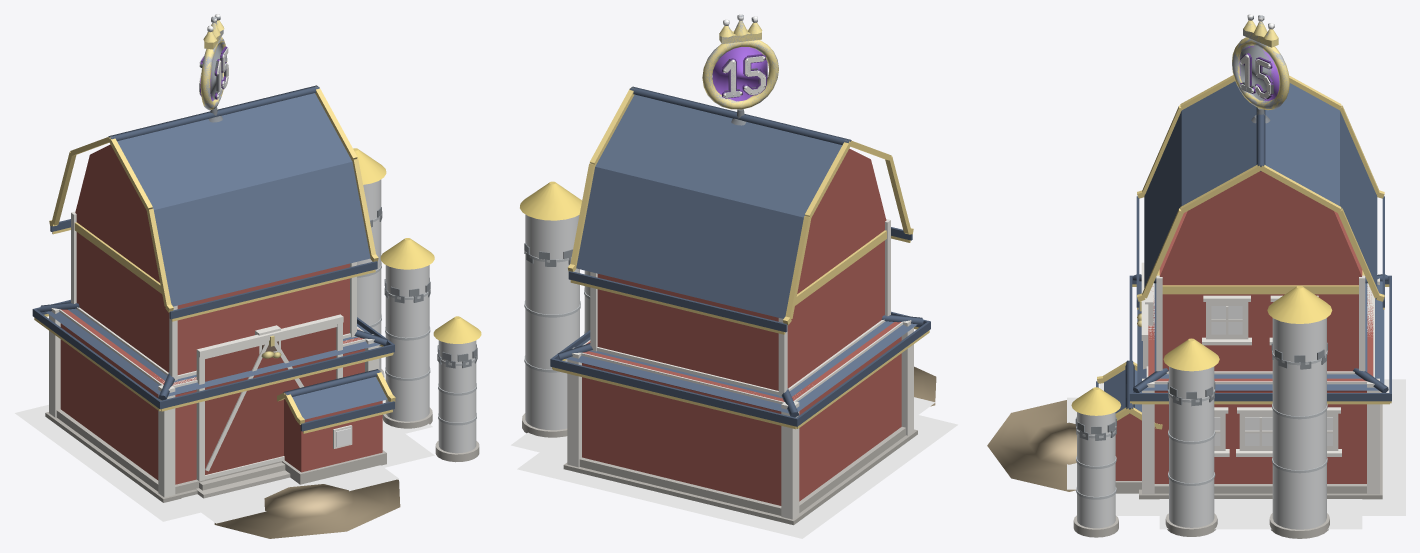
Rendered from barn_15.glb.
3 renders of one model, left to right at view 1: azimuth 30°, elevation 25°; view 2: azimuth 150°, elevation 25°; view 3: azimuth 270°, elevation 25°, orthographic. The views are drawn at different scales.
Visible parts, largest first — view 1: body2, barn_15, spin_60_0, body; view 2: body2, barn_15, spin_60_0, body; view 3: body2, barn_15, spin_60_0, body.
Boxes of the visible parts, box(x1,y1,x2,y2) form: body2: box(32, 85, 481, 538); barn_15: box(15, 400, 434, 523); spin_60_0: box(199, 14, 228, 109); body: box(199, 16, 228, 110); body2: box(520, 86, 936, 525); barn_15: box(511, 397, 957, 538); spin_60_0: box(702, 14, 778, 109); body: box(702, 14, 778, 108); body2: box(987, 75, 1391, 538); barn_15: box(1067, 379, 1405, 529); spin_60_0: box(1232, 14, 1289, 109); body: box(1232, 15, 1287, 109).
Size of the model in its own units: 3.42 by 4.34 by 3.8.
